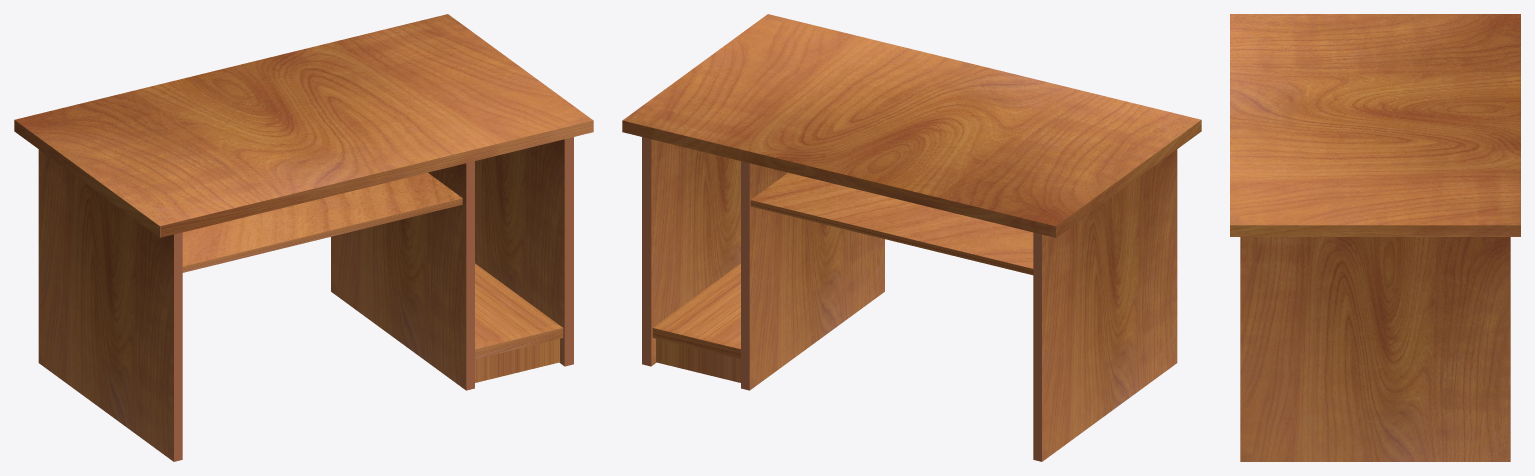
Rendered from biurko3.fbx.
3 views of the same model, side by side, from view 1: azimuth 30°, elevation 25°; view 2: azimuth 150°, elevation 25°; view 3: azimuth 270°, elevation 25° (orthographic).
Visible parts, largest first — view 1: Kostka; view 2: Kostka; view 3: Kostka.
Boxes of the visible parts, box(x1,y1,x2,y2) form: Kostka: box(14, 14, 593, 461); Kostka: box(622, 14, 1201, 461); Kostka: box(1230, 14, 1520, 461).
Bounding box in the file's own units: 325 × 175 × 189.
1 material, 1 textured.
